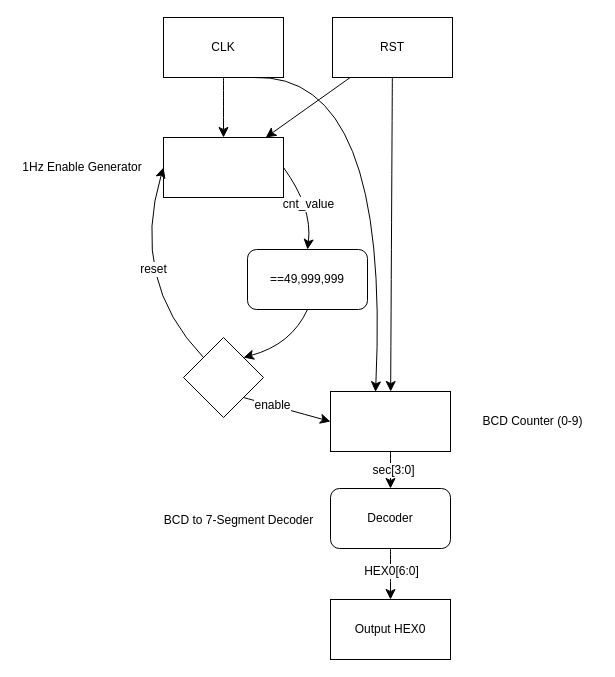
The diagram is 615 pixels wide and 677 high, and some of its shapes have lost their labels. Here are the shapes that lost their labels. From the top down, the centre of each, then its label:
point (223, 167): cnt(26-bit Counter)
point (223, 377): enlhz(1Hz)
point (390, 421): sec(4-bit Counter)
